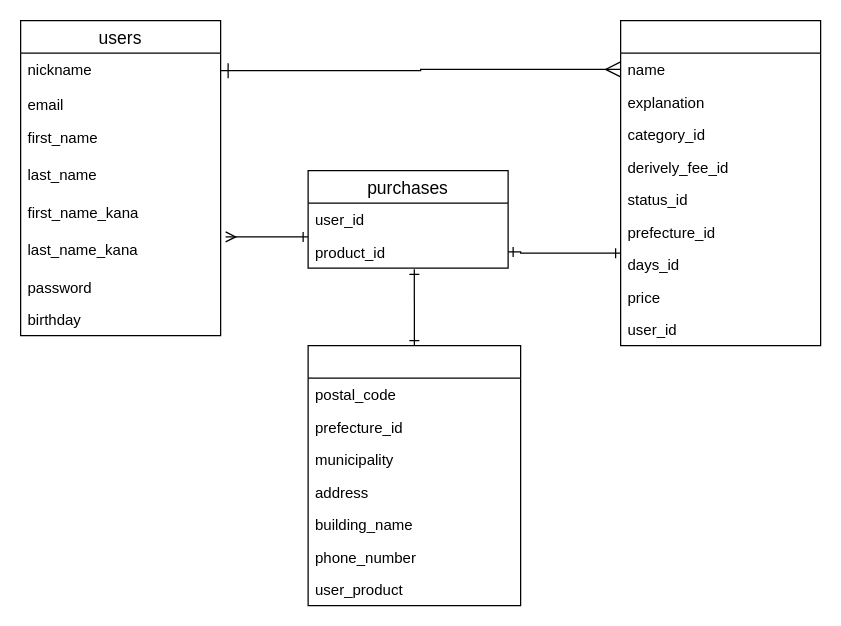
This 841x626 diagram has some shape labels left out. Here are the shapes that lost their labels. From the top down, the box of each, then its label:
(619, 19, 821, 346): products
(307, 344, 521, 606): addresses
